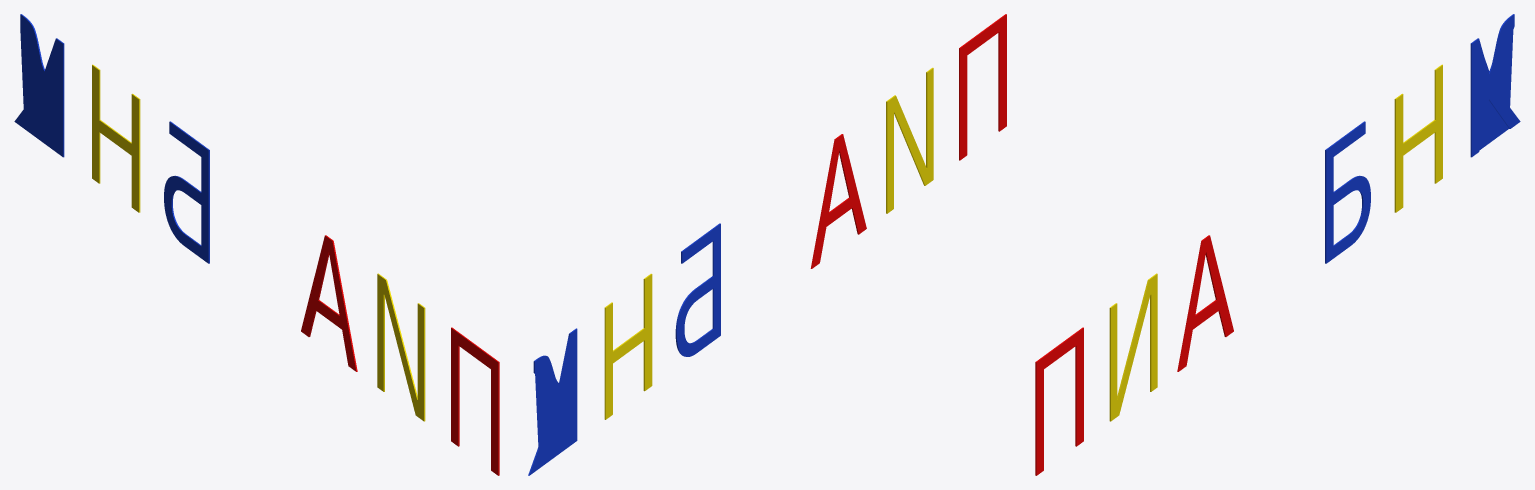
Rendered from tnk-10.fbx.
3 views of the same model, side by side, from view 1: azimuth 30°, elevation 25°; view 2: azimuth 150°, elevation 25°; view 3: azimuth 330°, elevation 25° (orthographic).
Parts seen in each view (by area): view 1: К_1, И_1, Б_1, Н_1, П_1, А_1; view 2: К_1, Б_1, И_1, Н_1, П_1, А_1; view 3: К_1, И_1, Б_1, Н_1, П_1, А_1.
Boxes of the visible parts, <box> form: К_1: <box>14,14,64,157</box>; И_1: <box>377,273,425,421</box>; Б_1: <box>164,121,209,263</box>; Н_1: <box>92,64,140,212</box>; П_1: <box>451,327,499,475</box>; А_1: <box>301,235,357,371</box>; К_1: <box>528,328,577,475</box>; Б_1: <box>675,223,720,356</box>; И_1: <box>886,67,933,213</box>; Н_1: <box>604,273,652,419</box>; П_1: <box>959,14,1006,160</box>; А_1: <box>810,134,866,268</box>; К_1: <box>1470,14,1520,157</box>; И_1: <box>1109,273,1157,421</box>; Б_1: <box>1325,121,1370,263</box>; Н_1: <box>1394,64,1442,212</box>; П_1: <box>1035,327,1083,475</box>; А_1: <box>1177,235,1233,371</box>.
Size of the model in its own units: 1 by 86.96 by 672.
